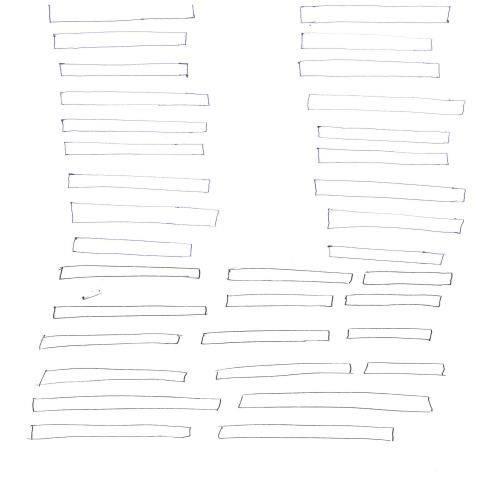Textbox: (238, 392, 435, 414), (314, 179, 467, 204), (70, 203, 220, 228), (327, 209, 465, 236), (308, 94, 467, 117), (32, 396, 222, 413), (218, 425, 395, 442), (301, 6, 453, 25), (30, 425, 192, 442), (68, 174, 211, 193), (299, 60, 441, 79), (39, 369, 189, 386), (301, 33, 434, 52), (318, 126, 451, 145), (215, 363, 353, 381), (72, 238, 194, 258), (318, 148, 450, 166), (328, 246, 445, 266), (53, 305, 209, 320), (39, 334, 182, 350), (60, 92, 210, 107), (62, 119, 208, 134), (59, 266, 202, 281), (64, 142, 206, 157), (202, 330, 331, 346), (227, 268, 354, 284), (54, 32, 188, 47), (59, 63, 190, 77), (225, 294, 334, 308), (363, 271, 453, 286), (345, 294, 443, 307), (363, 363, 446, 377), (347, 328, 433, 341)
